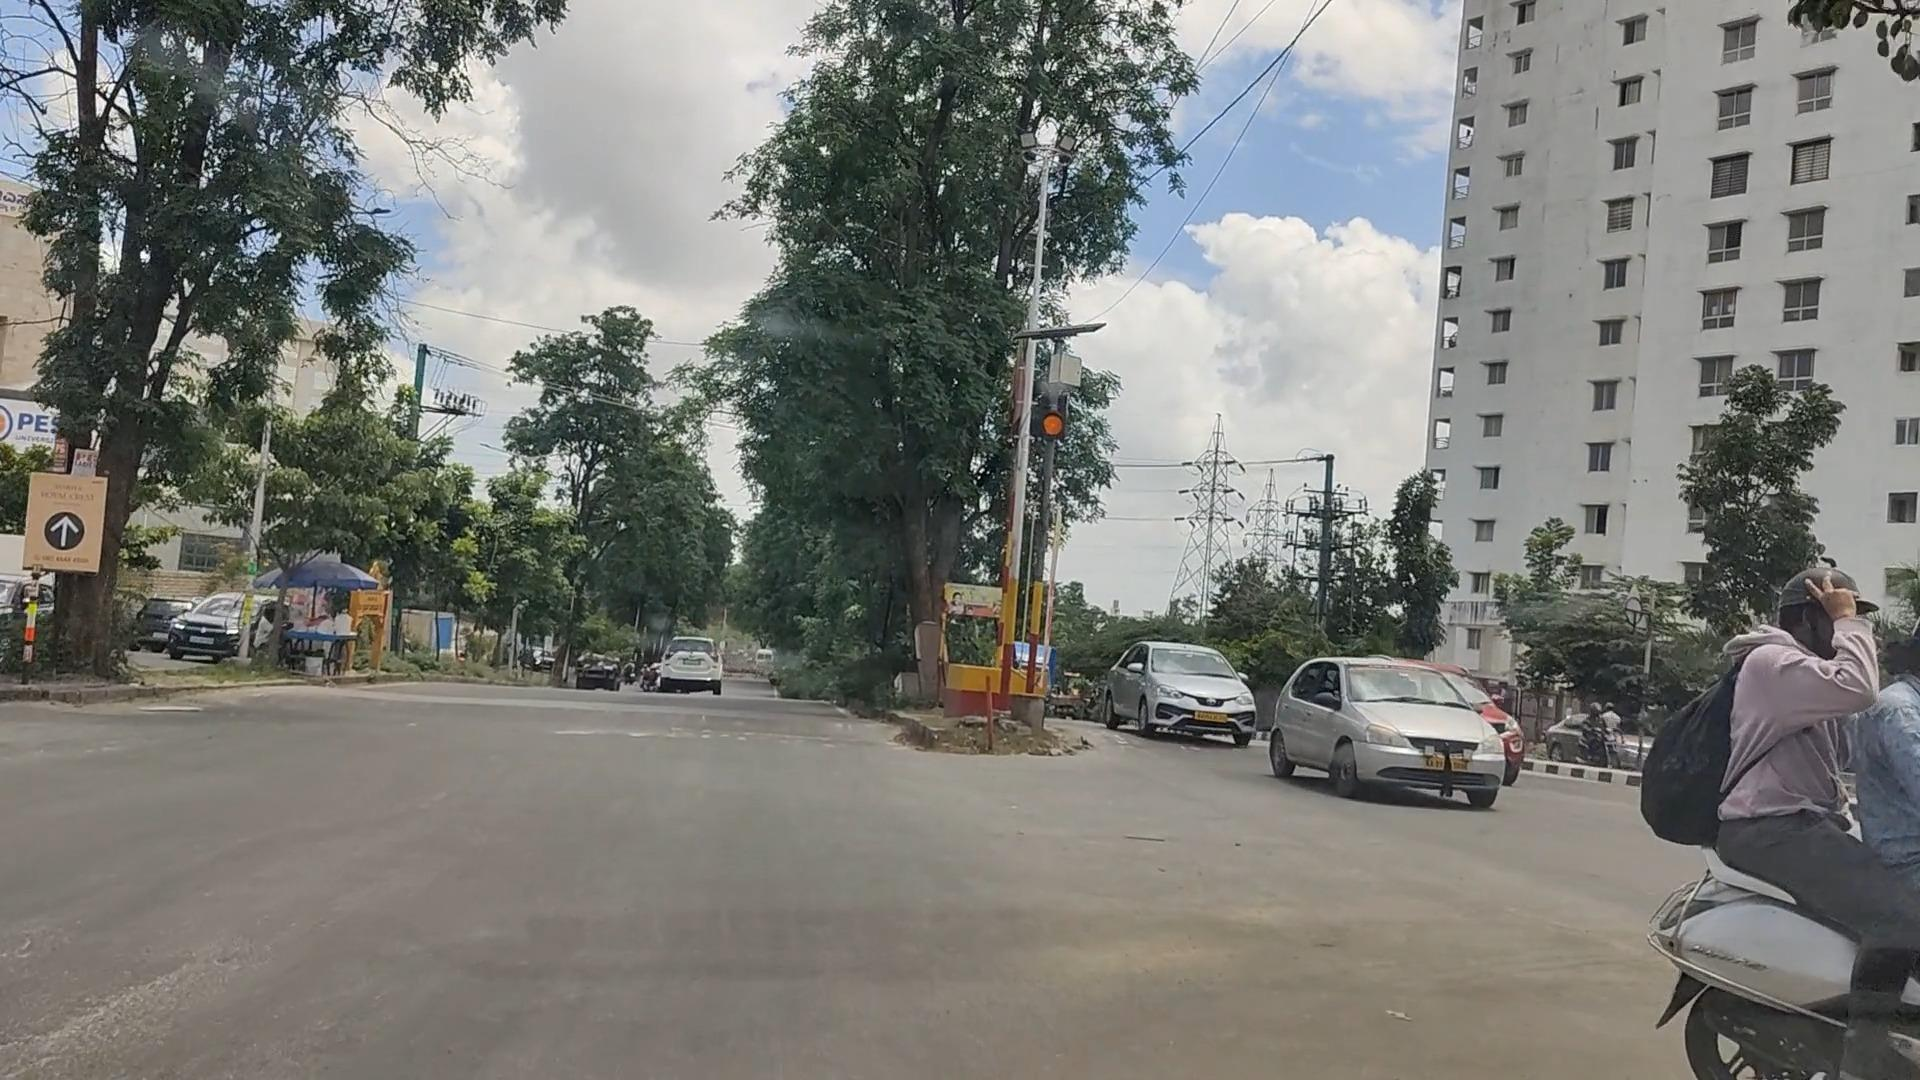LMV: (1288, 658, 1501, 790), (1104, 638, 1253, 744)
